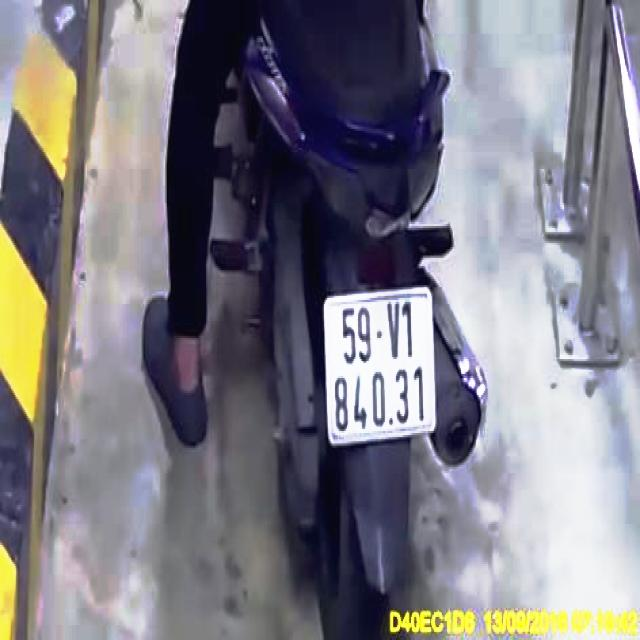license_plate: (325, 291, 436, 443)
